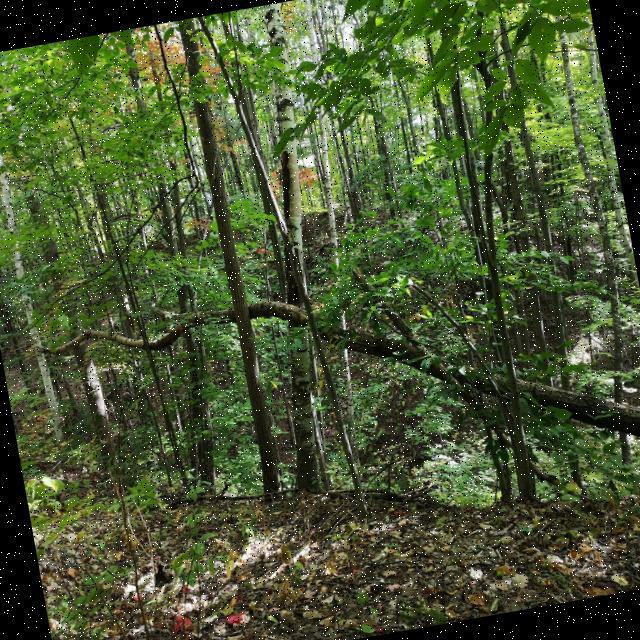fallen_object: (17, 170, 640, 563)
